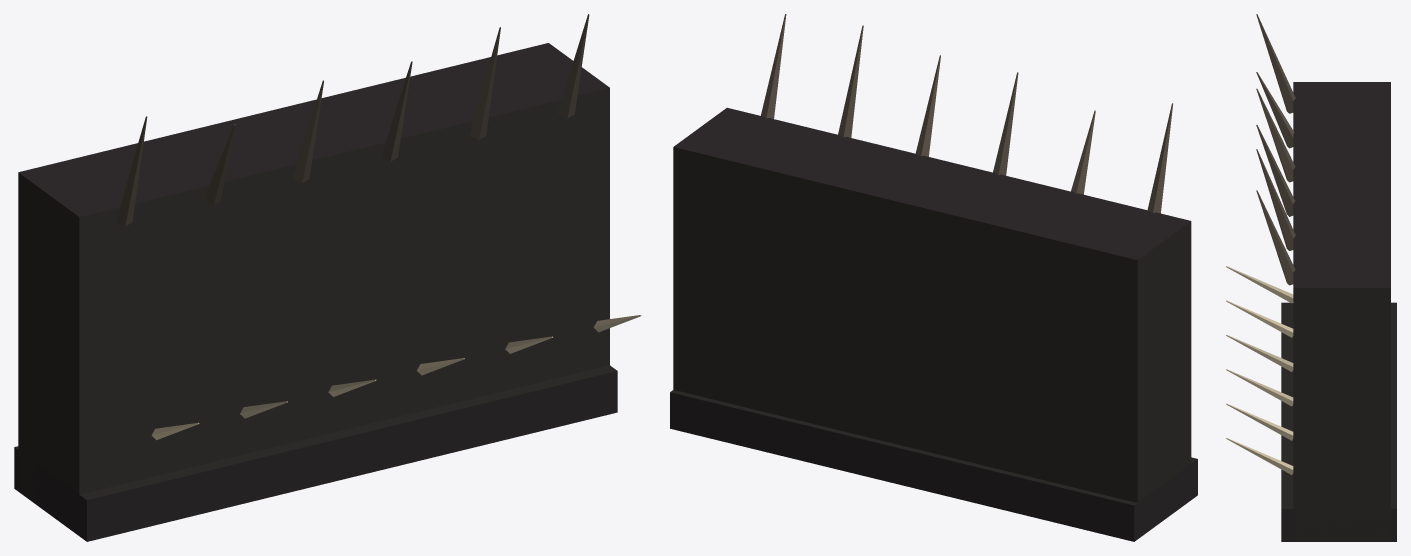
File: walk_ashen_wall.glb
The picture shows the model from 3 angles, left to right: view 1: azimuth 30°, elevation 25°; view 2: azimuth 150°, elevation 25°; view 3: azimuth 270°, elevation 25°; orthographic projection. The views are drawn at different scales.
Visible parts, largest first — view 1: walk_ashen_wall; view 2: walk_ashen_wall; view 3: walk_ashen_wall.
Boxes of the visible parts, x1,y1,x2,y2 form: walk_ashen_wall: (14,14,641,541); walk_ashen_wall: (670,14,1197,541); walk_ashen_wall: (1226,14,1396,541).
Size of what is drawn, in the model's own units: 8 by 6.18 by 2.8.
Materials: 1 (1 with a texture image).
